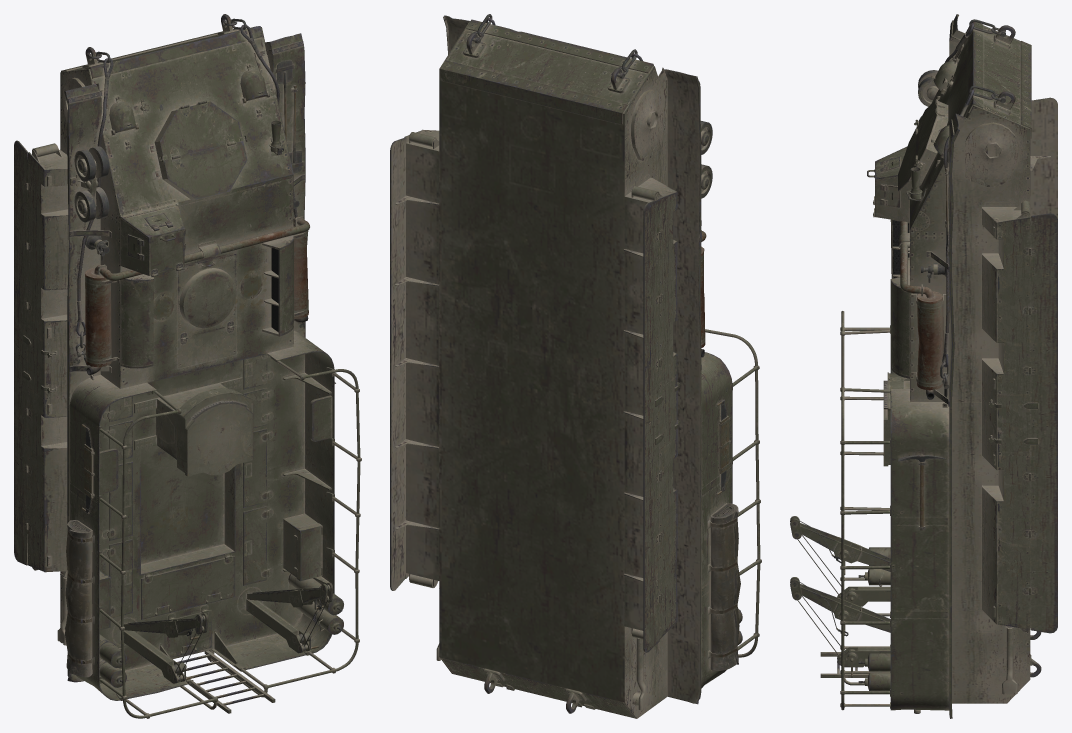
File: Hull.glb
3 renders of one model, left to right at view 1: azimuth 30°, elevation 25°; view 2: azimuth 150°, elevation 25°; view 3: azimuth 270°, elevation 25°, orthographic. The views are drawn at different scales.
Parts seen in each view (by area): view 1: set_0_group_0; view 2: set_0_group_0; view 3: set_0_group_0.
Part boxes in pixels (left/top/right/bottom): set_0_group_0: left=14, top=14, right=361, bottom=718; set_0_group_0: left=390, top=14, right=761, bottom=718; set_0_group_0: left=790, top=14, right=1057, bottom=718.
Size of the model in its own units: 3.32 by 7.61 by 2.97.
Materials: 1 (1 with a texture image).
